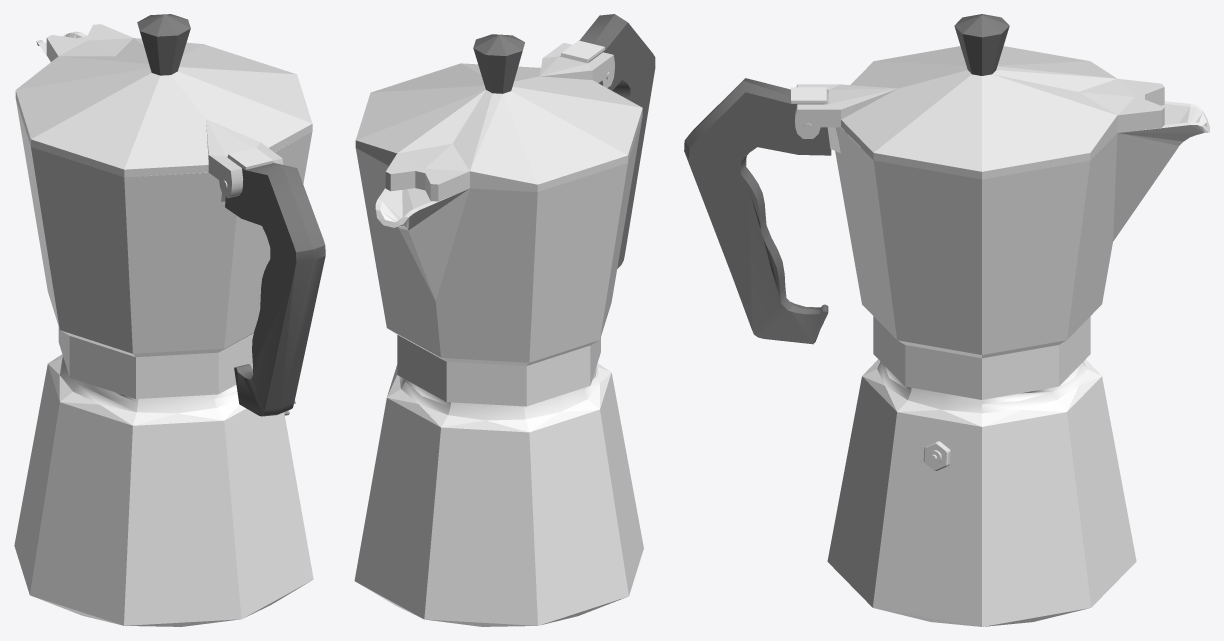
The model's file is coffee.fbx.
3 views of the same model, side by side, from view 1: azimuth 30°, elevation 25°; view 2: azimuth 150°, elevation 25°; view 3: azimuth 270°, elevation 25° (orthographic). The views are drawn at different scales.
Visible parts, largest first — view 1: Moka Body.001; view 2: Moka Body.001; view 3: Moka Body.001.
Boxes of the visible parts, x1,y1,x2,y2 form: Moka Body.001: (14, 14, 325, 626); Moka Body.001: (354, 14, 655, 626); Moka Body.001: (684, 14, 1209, 626).
Bounding box in the file's own units: 1.01 × 2 × 1.72.
1 material, 1 textured.
